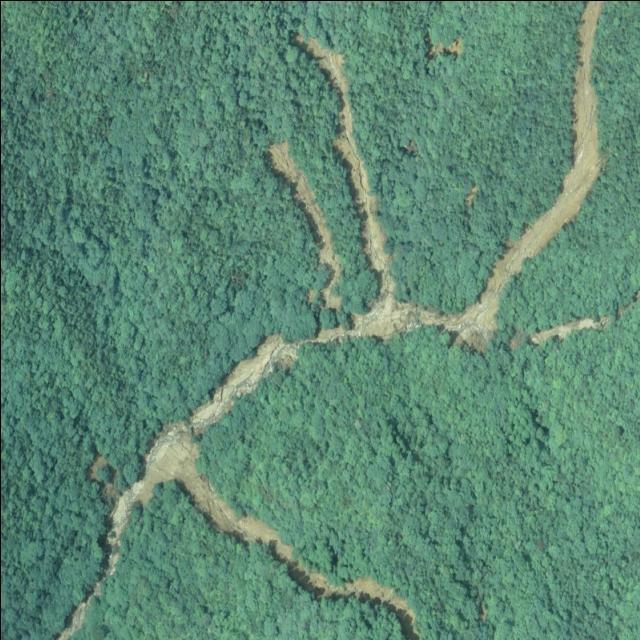landslide: (126, 0, 601, 502), (104, 421, 417, 639), (440, 0, 603, 350), (265, 139, 340, 309)
